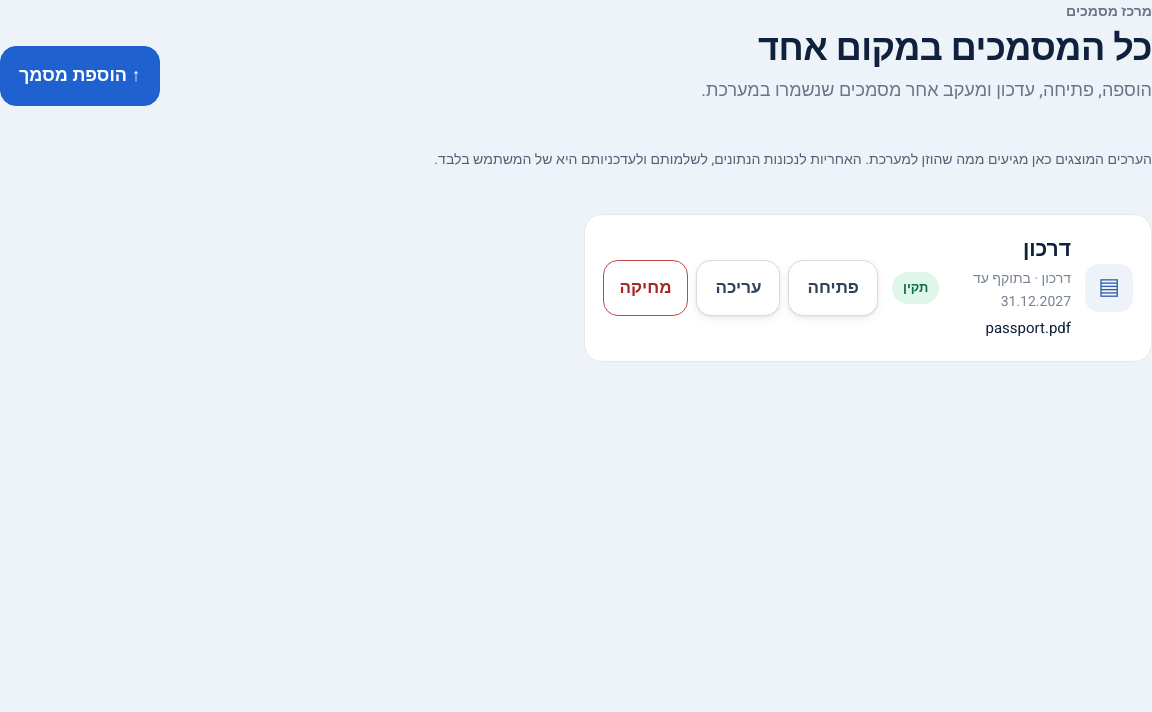
Test: DocumentsPage › shows a refused edit and keeps the form, without renaming the document
Click the button "עריכה".
click(738, 288)  # box top-left (696, 260), bottom-right (780, 316)
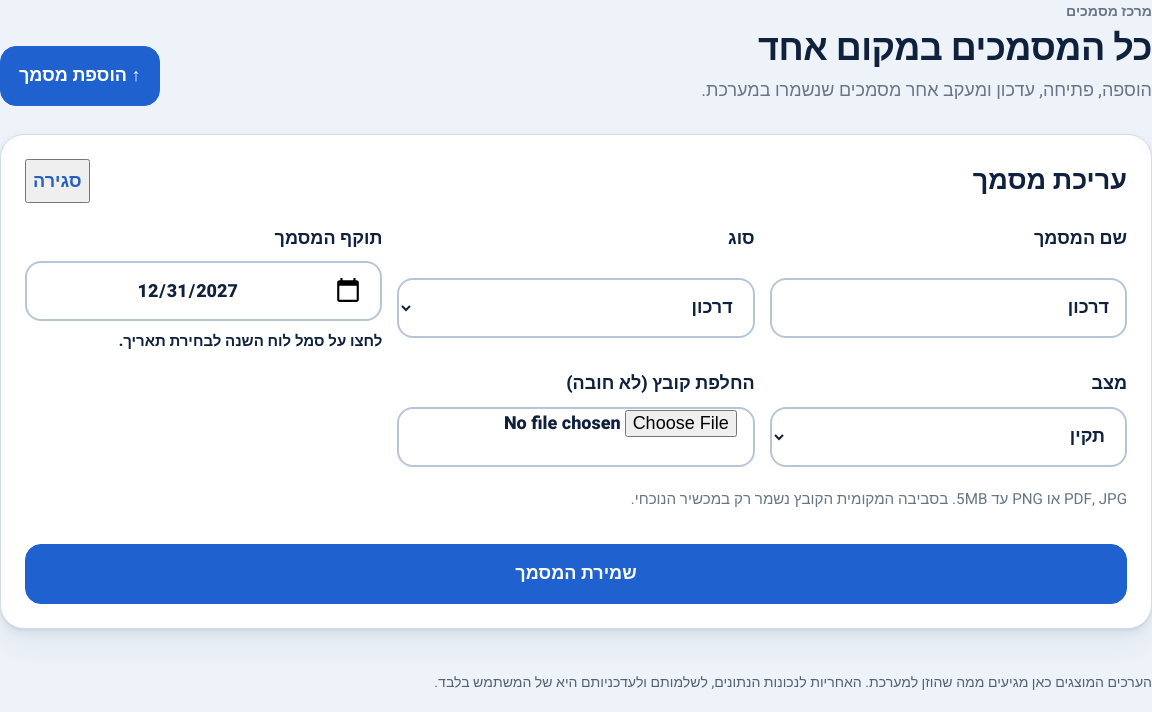
Replace the text in the field labelled "שם המסמך" with "דרכון חדש" at (948, 308), box top-left (770, 278), bottom-right (1127, 338)
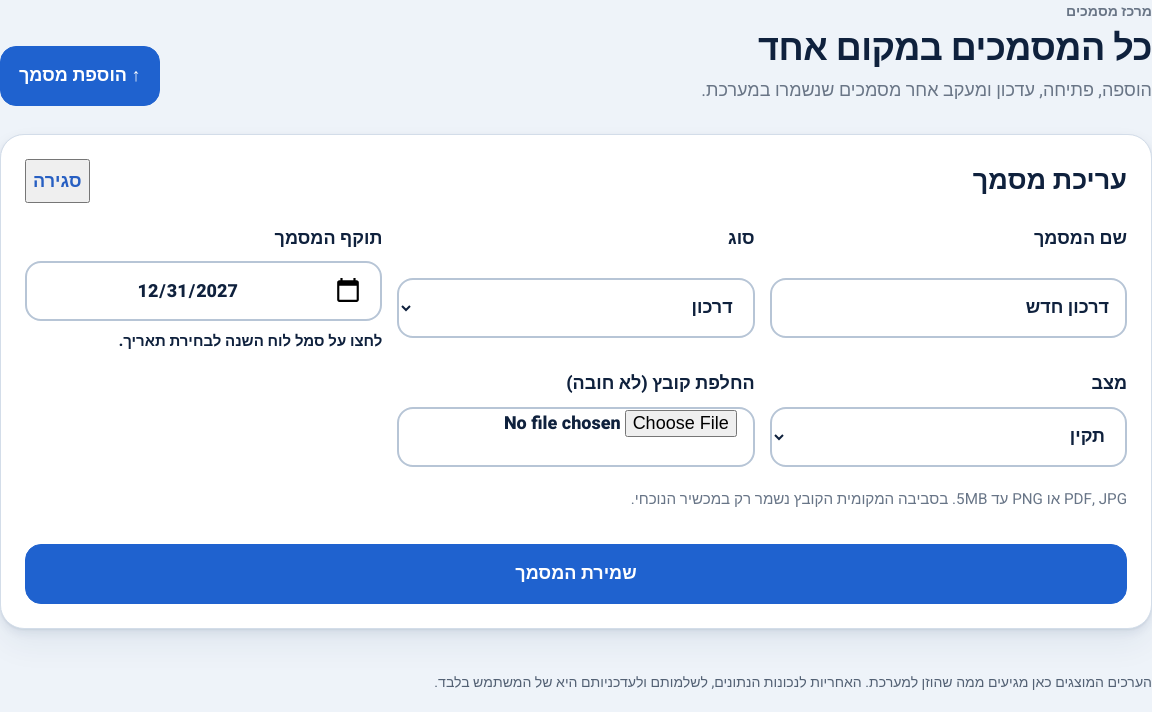
Click the button "שמירת המסמך".
click(576, 574)  # box top-left (25, 544), bottom-right (1127, 604)
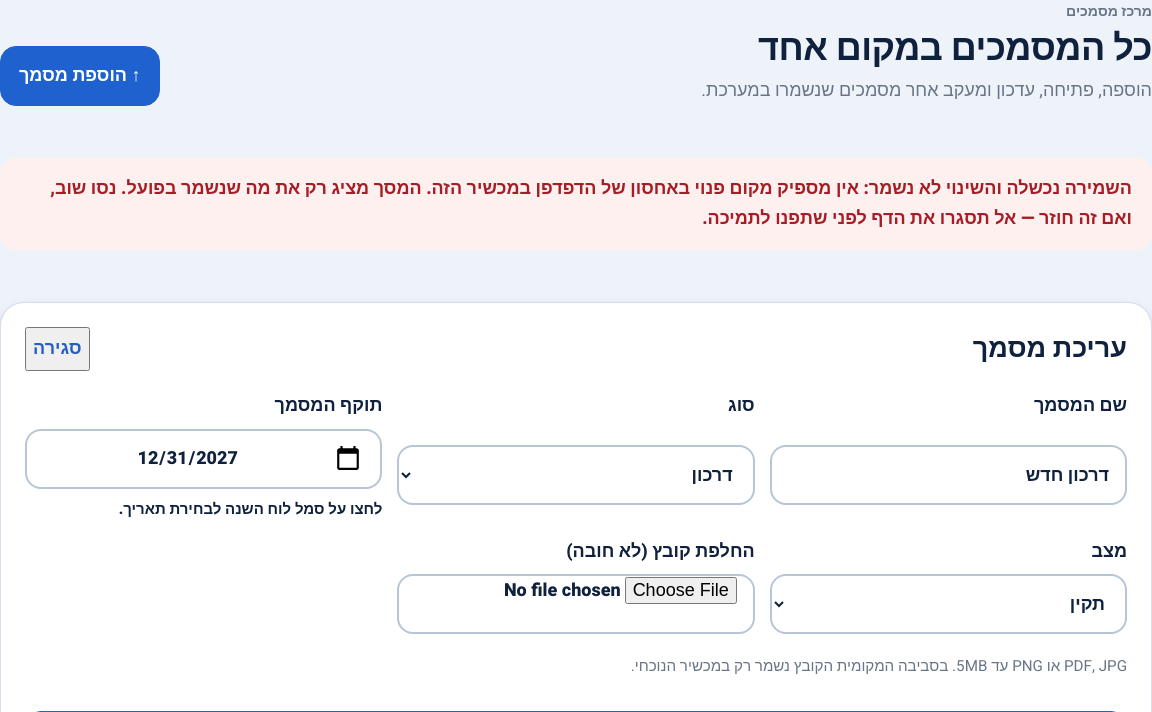
Now the message shows "השמירה נכשלה והשינוי לא נשמר: אין מספיק מקום פנוי", box top-left (50, 175), bottom-right (1132, 232)
